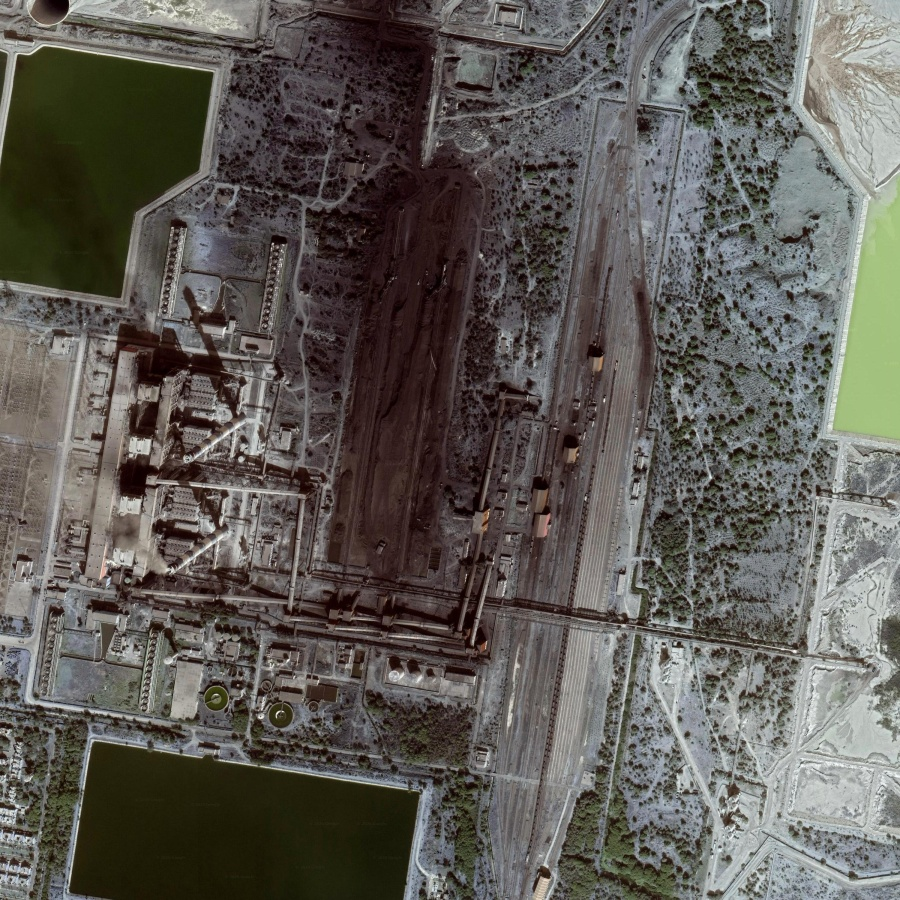PowerPlant: (95, 139, 538, 646)
